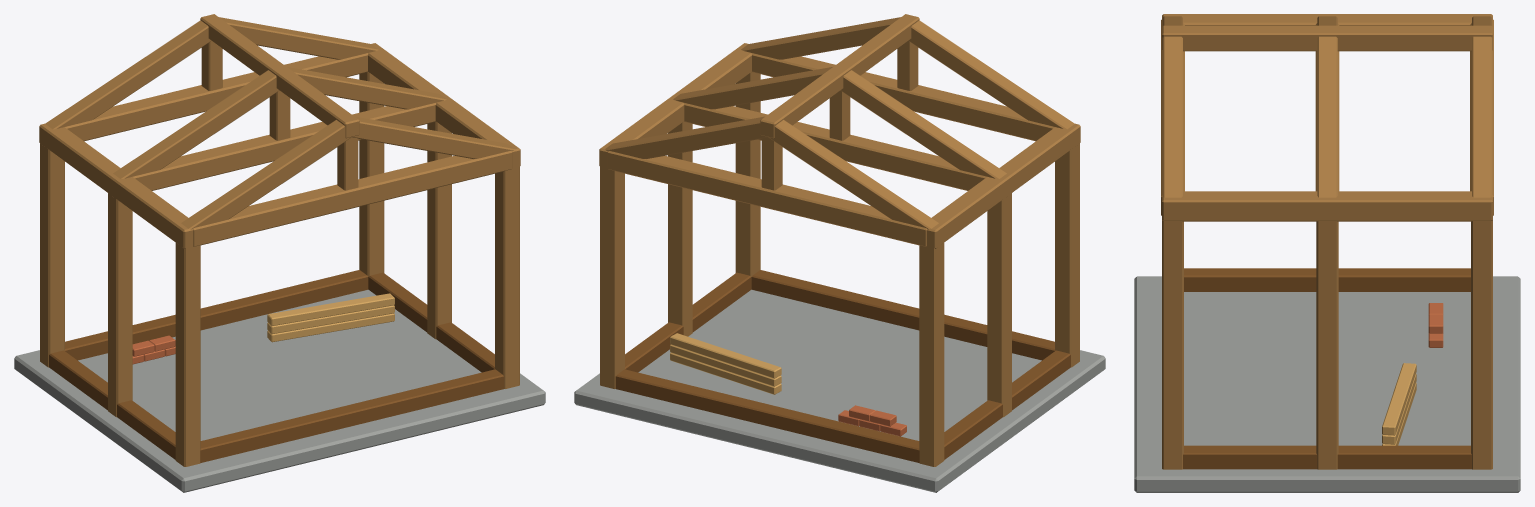
Rendered from ChickenChopFrame.glb.
3 views of the same model, side by side, from view 1: azimuth 30°, elevation 25°; view 2: azimuth 150°, elevation 25°; view 3: azimuth 270°, elevation 25° (orthographic). The views are drawn at different scales.
Parts seen in each view (by area): view 1: ChickenCoopConstruction_StaticMesh; view 2: ChickenCoopConstruction_StaticMesh; view 3: ChickenCoopConstruction_StaticMesh.
Part boxes in pixels (left/top/right/bottom): ChickenCoopConstruction_StaticMesh: left=14, top=14, right=545, bottom=492; ChickenCoopConstruction_StaticMesh: left=574, top=14, right=1105, bottom=492; ChickenCoopConstruction_StaticMesh: left=1134, top=14, right=1520, bottom=492.
Size of the model in its own units: 5.2 by 4.36 by 4.2.
